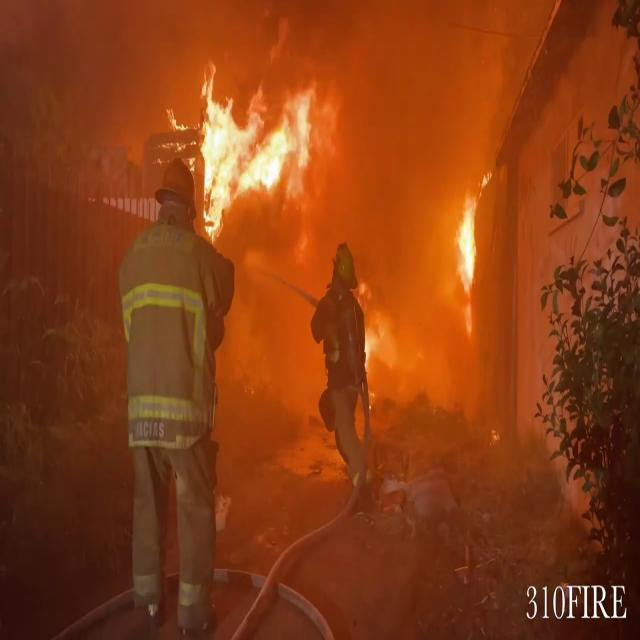Fire: (180, 64, 322, 232), (355, 276, 412, 404), (452, 165, 493, 312)
